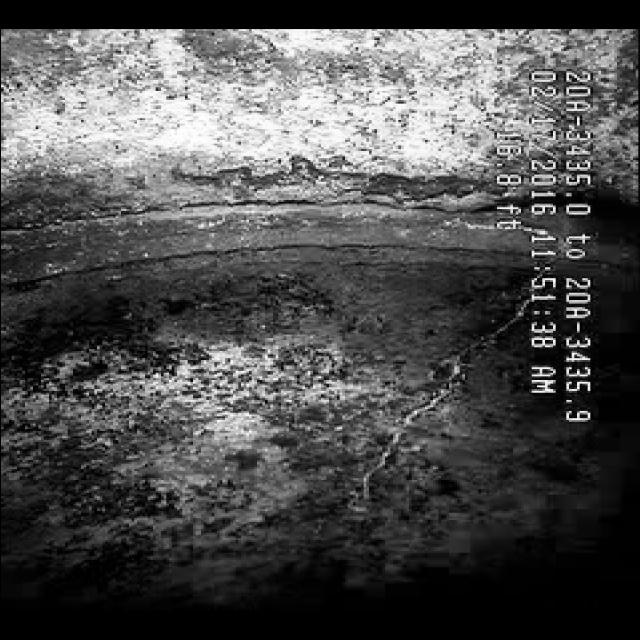Crack: (346, 347, 500, 512)
